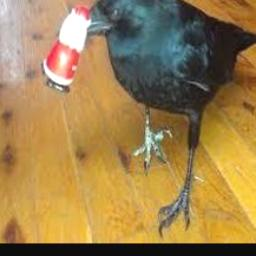Crow: (70, 0, 256, 236)
